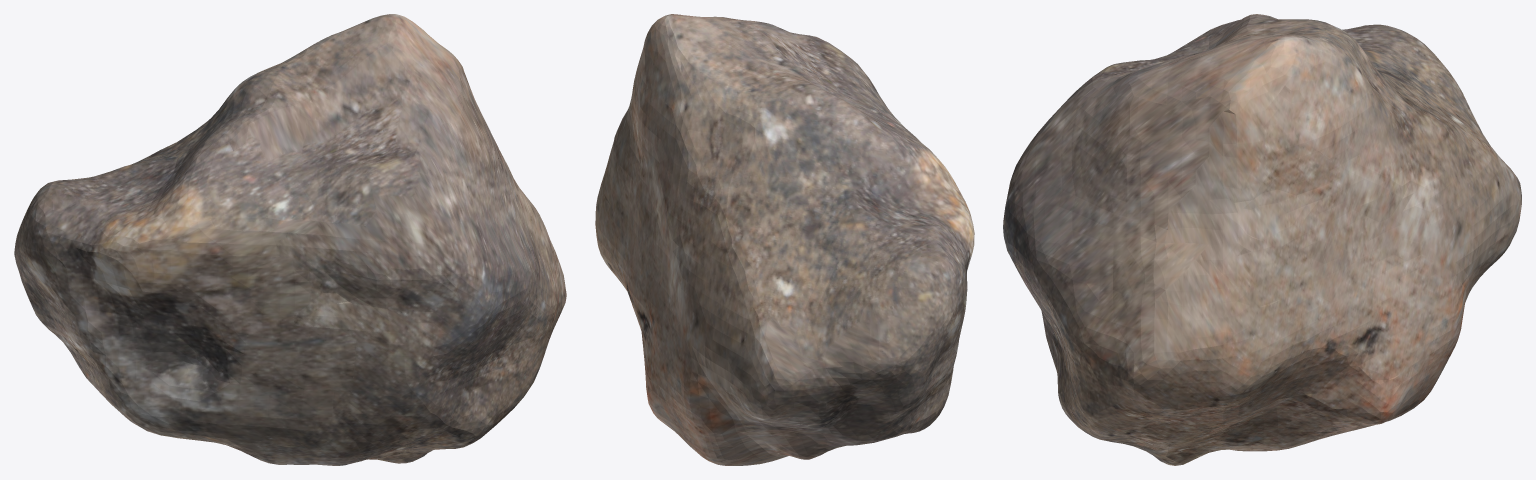
The model's file is rock2.obj.
The picture shows the model from 3 angles, left to right: view 1: azimuth 30°, elevation 25°; view 2: azimuth 150°, elevation 25°; view 3: azimuth 270°, elevation 25°; orthographic projection. The views are drawn at different scales.
Bounding box in the file's own units: 57.14 × 51.86 × 53.04.
1 material, 1 textured.
